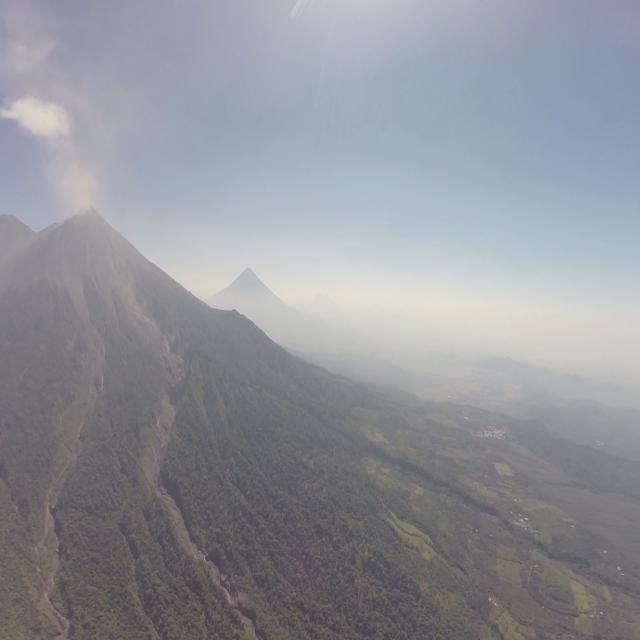Plume: (50, 153, 100, 219), (9, 92, 75, 140)
Summit: (59, 200, 112, 228)
